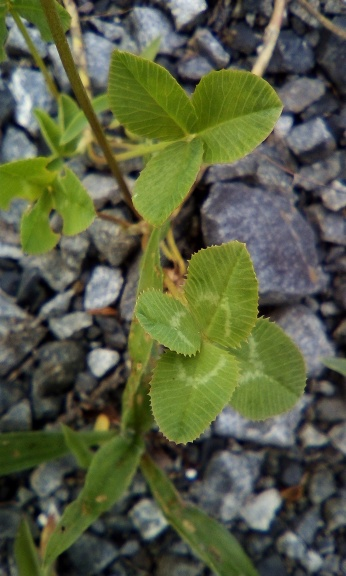4leaf: (133, 238, 306, 445)
